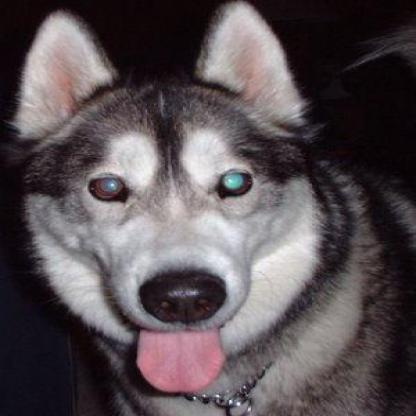Eskimo_dog: (11, 2, 413, 414)
